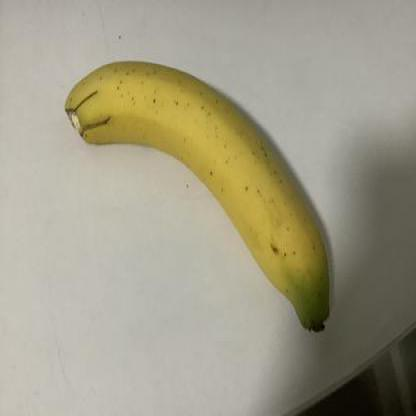bananarotation: (61, 56, 334, 336)
